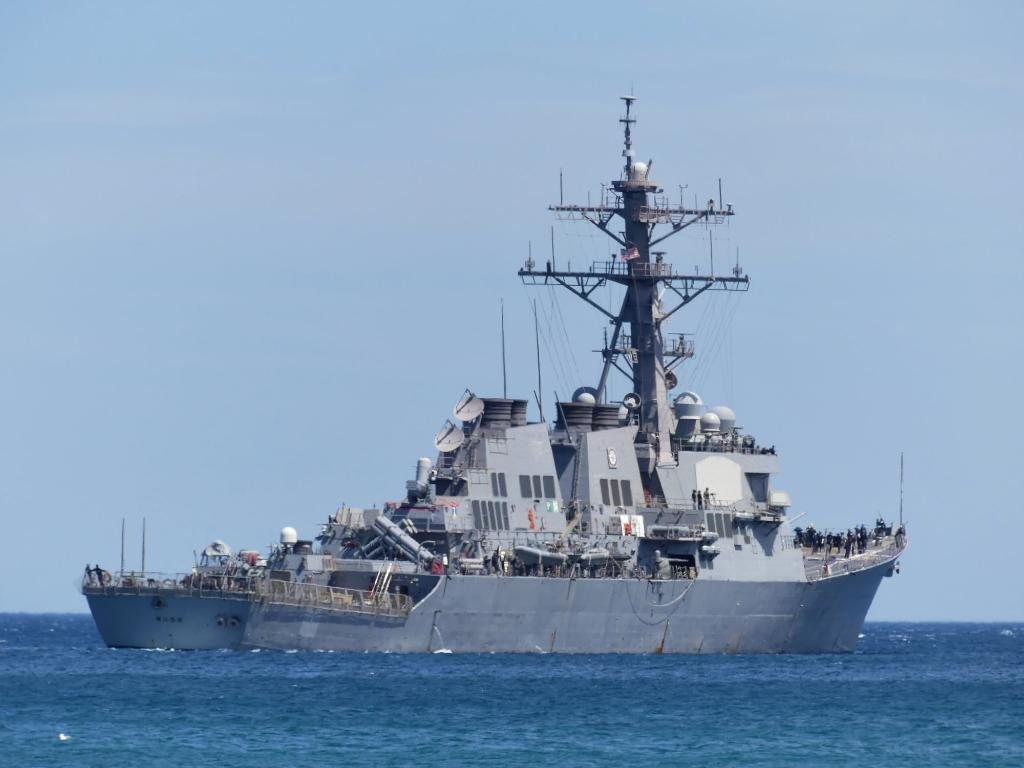Warship: (78, 92, 910, 658)
